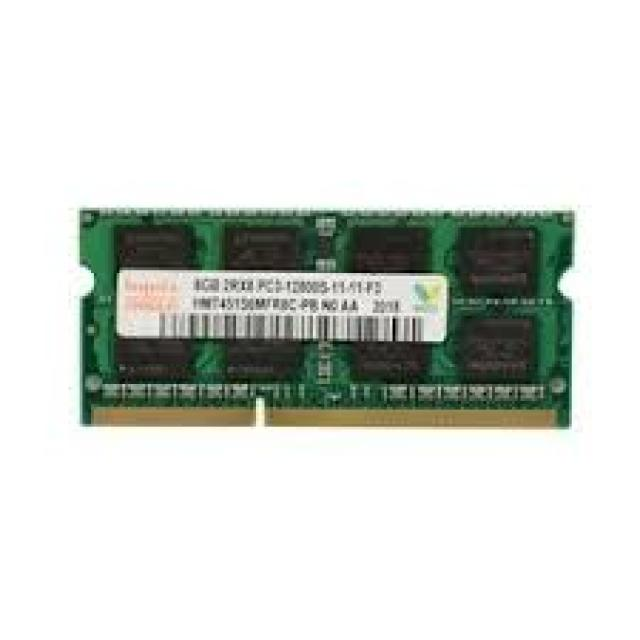Ram: (70, 175, 580, 528)
